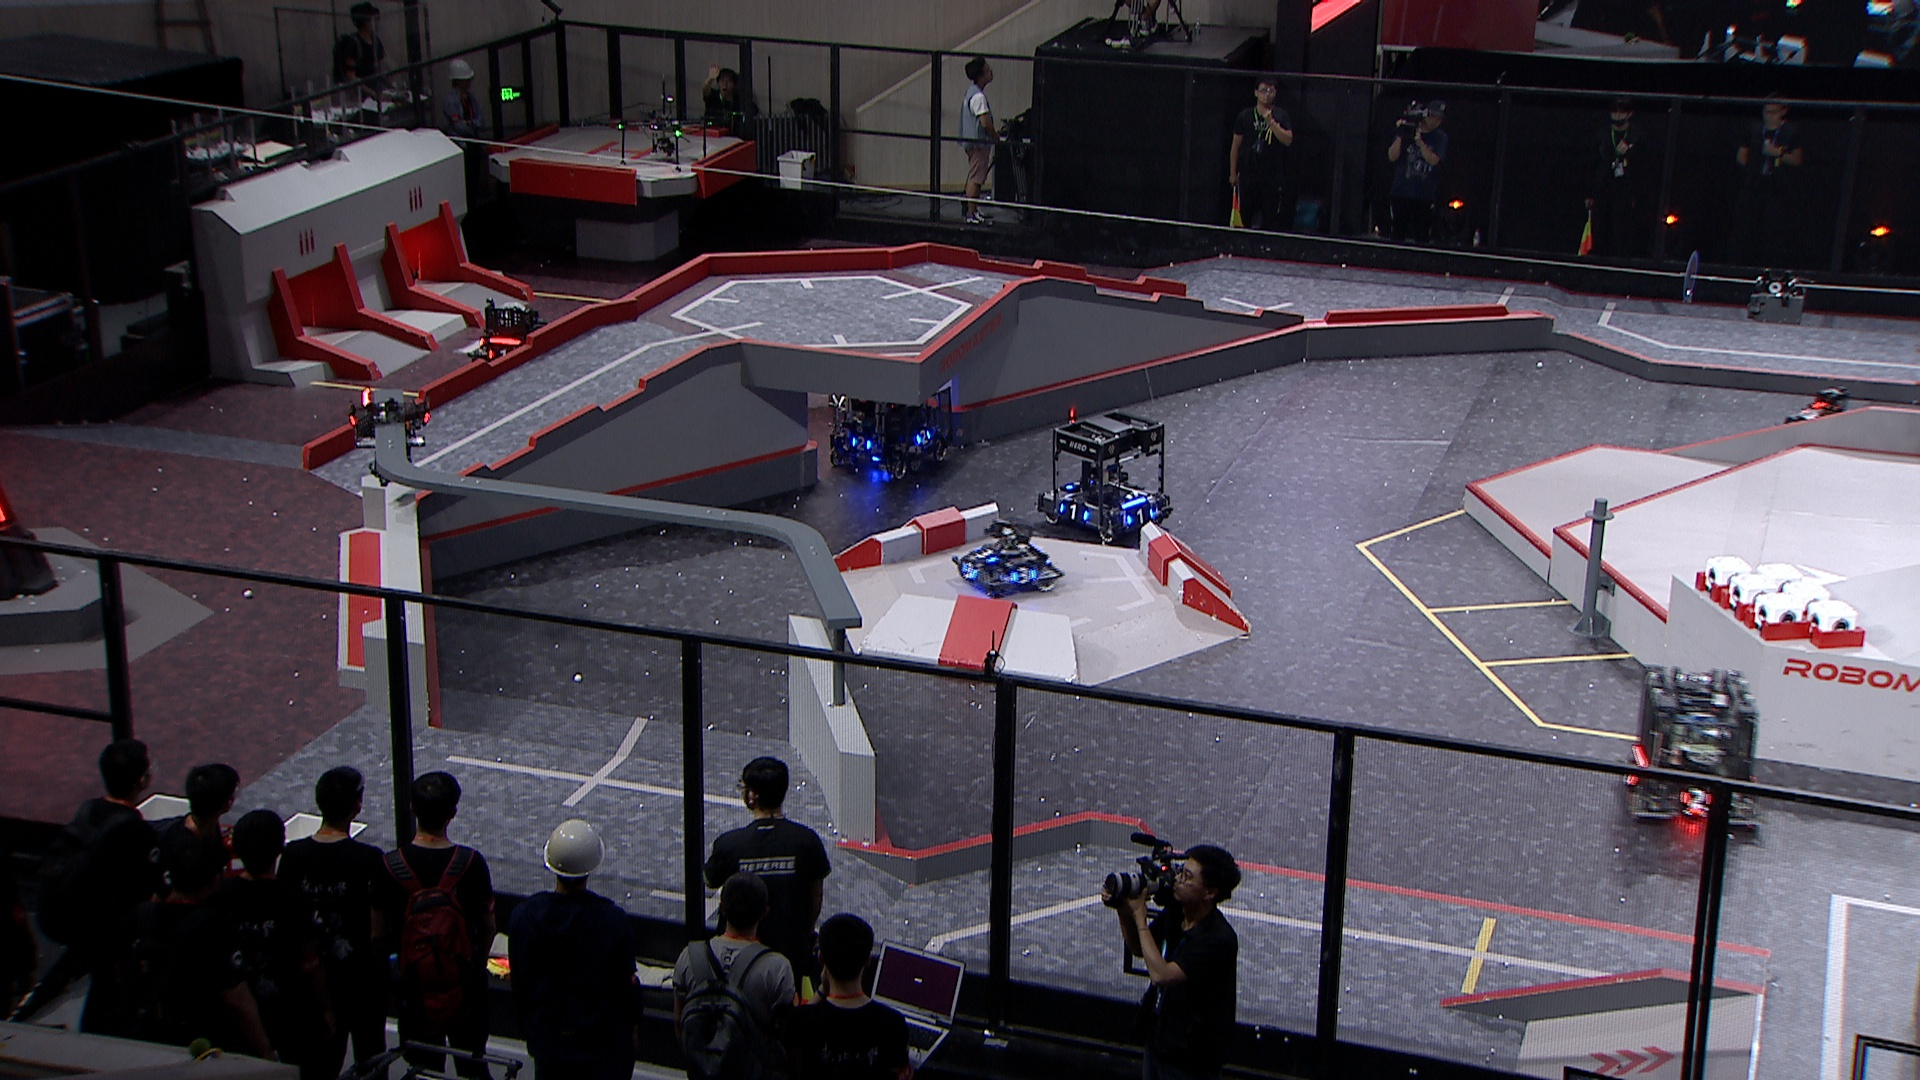armor: (1680, 787, 1712, 807), (1059, 502, 1088, 524), (1126, 509, 1155, 527), (1621, 760, 1638, 785), (1062, 476, 1083, 495), (1011, 567, 1035, 583), (960, 560, 978, 580), (849, 436, 872, 452), (975, 546, 998, 560), (913, 427, 931, 444), (487, 345, 506, 360)
car: (1615, 665, 1764, 840), (1033, 407, 1179, 543), (822, 360, 960, 480), (949, 514, 1063, 597), (465, 301, 560, 381)
watcher: (342, 381, 433, 487)
